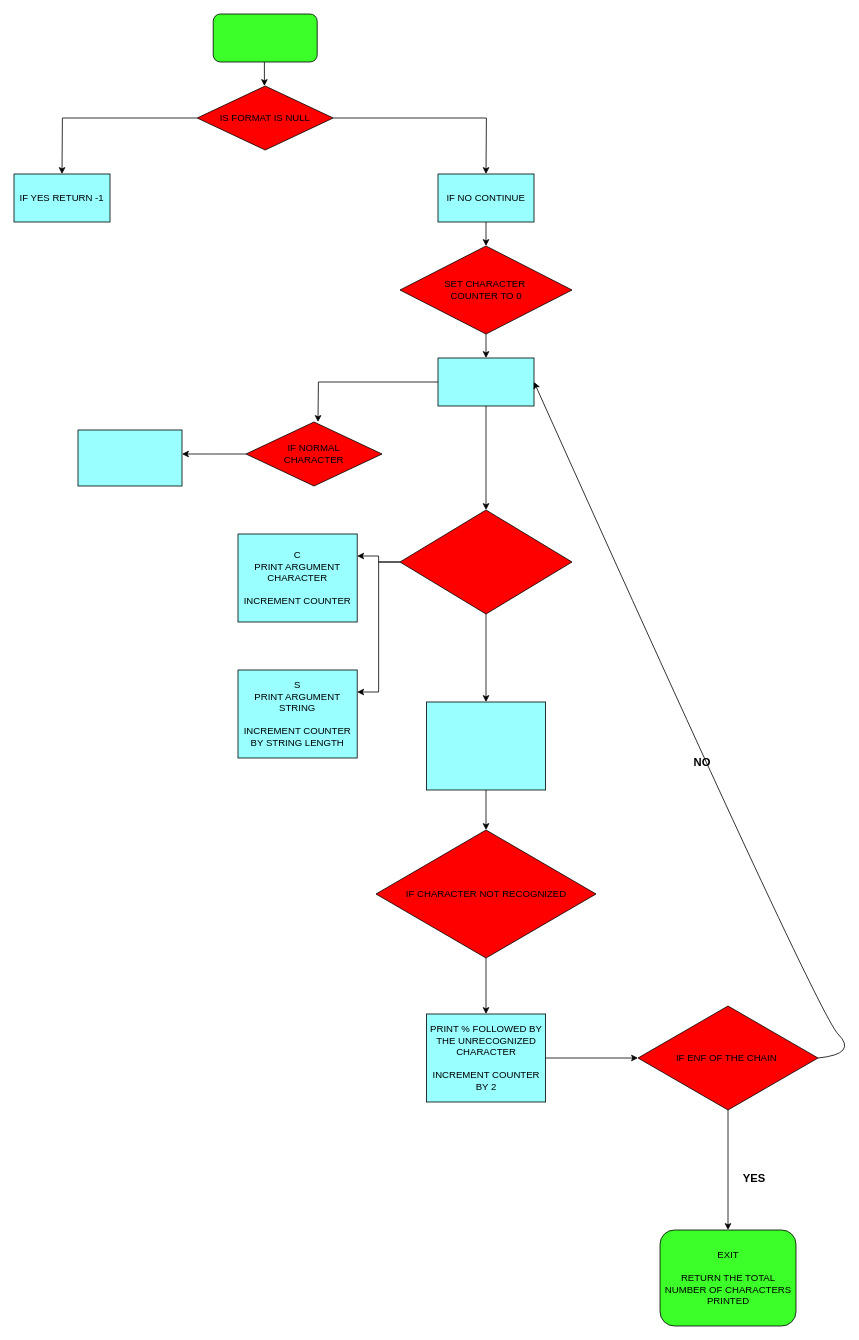
This 859x1340 diagram has some shape labels left out. Each missing label, with the box of its shape:
% PRINT % INCREMENT COUNTER: (426, 701, 546, 790)
IF % (CHECK THE FOLLOWING CHARACTER: (399, 509, 572, 614)
PRINT CHARACTER/ INCREMENT COUNTER: (77, 429, 182, 486)
START: (212, 13, 317, 62)
WHILE BROWSE THE FORMAT CHAIN: (437, 357, 534, 406)
